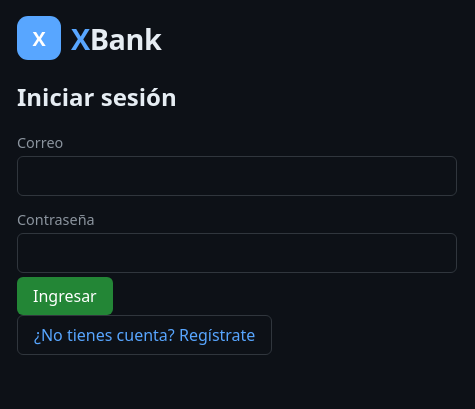
Scenario: Login — inicio de sesión › muestra error visible si el servicio rechaza las credenciales
The image size is (475, 409).
In the field labelled "Correo": (237, 176) [17,156,457,196], type "malo@test.cl"
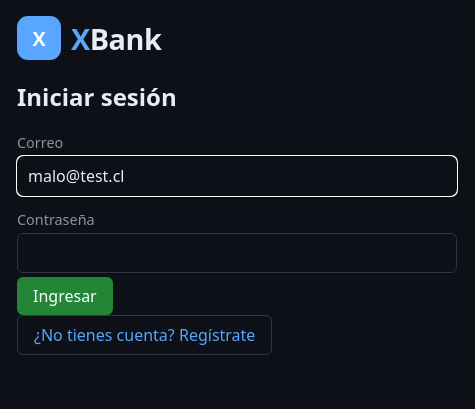
In the password field labelled "Contraseña": (237, 253) [17,233,457,273], type "123456"
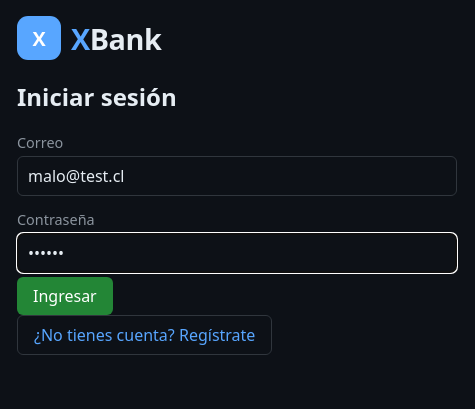
Click the button "Ingresar": (65, 296) [17,277,113,315]
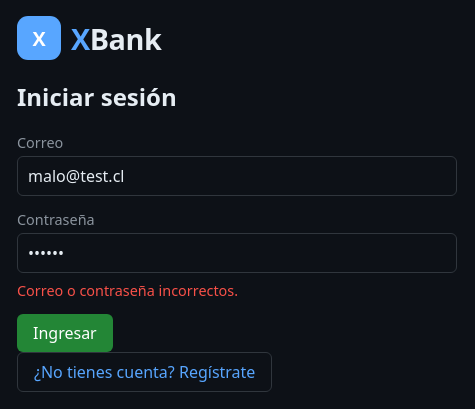
Now the text "Correo o contraseña incorrectos." is shown, box [17,281,238,300]
